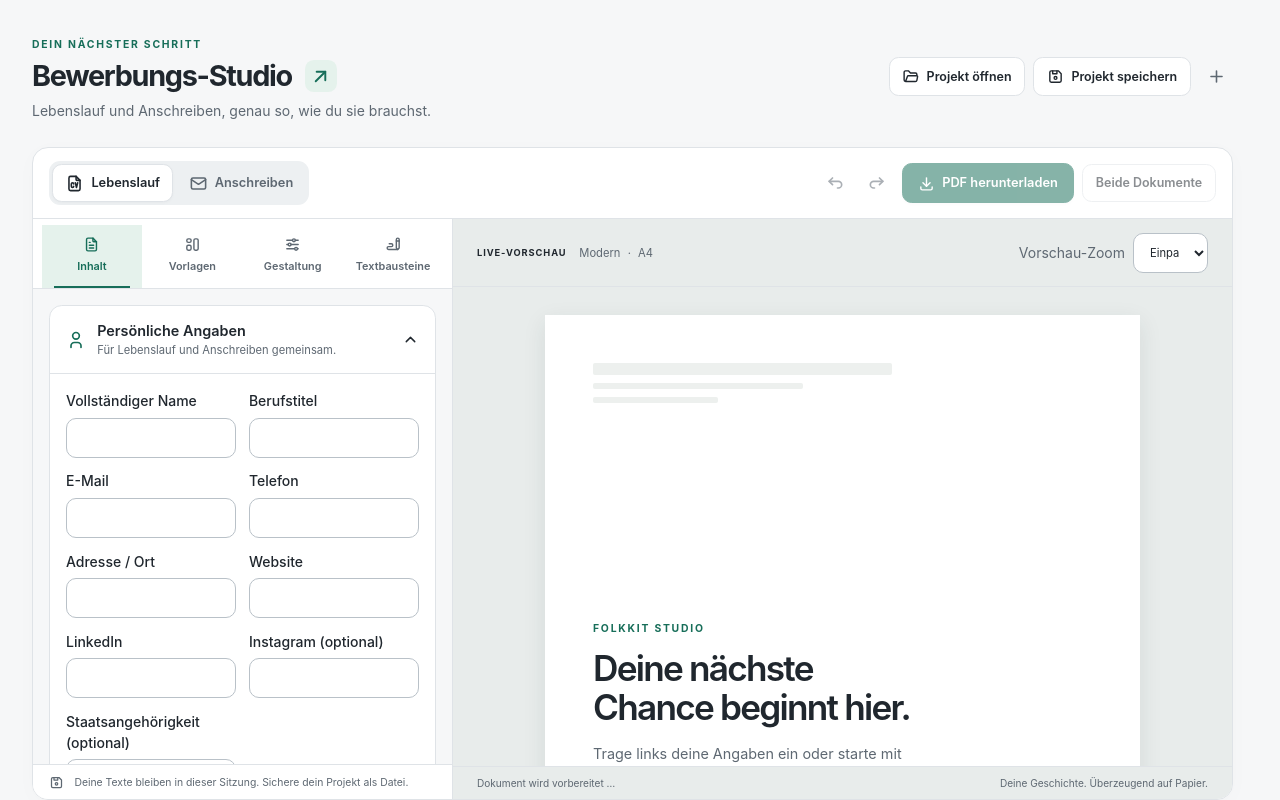
Test: external content appears in preview and template/design changes preserve it
In the field labelled "Vollständiger Name": (151, 438) [66,418,236,458], type "Mira Test"
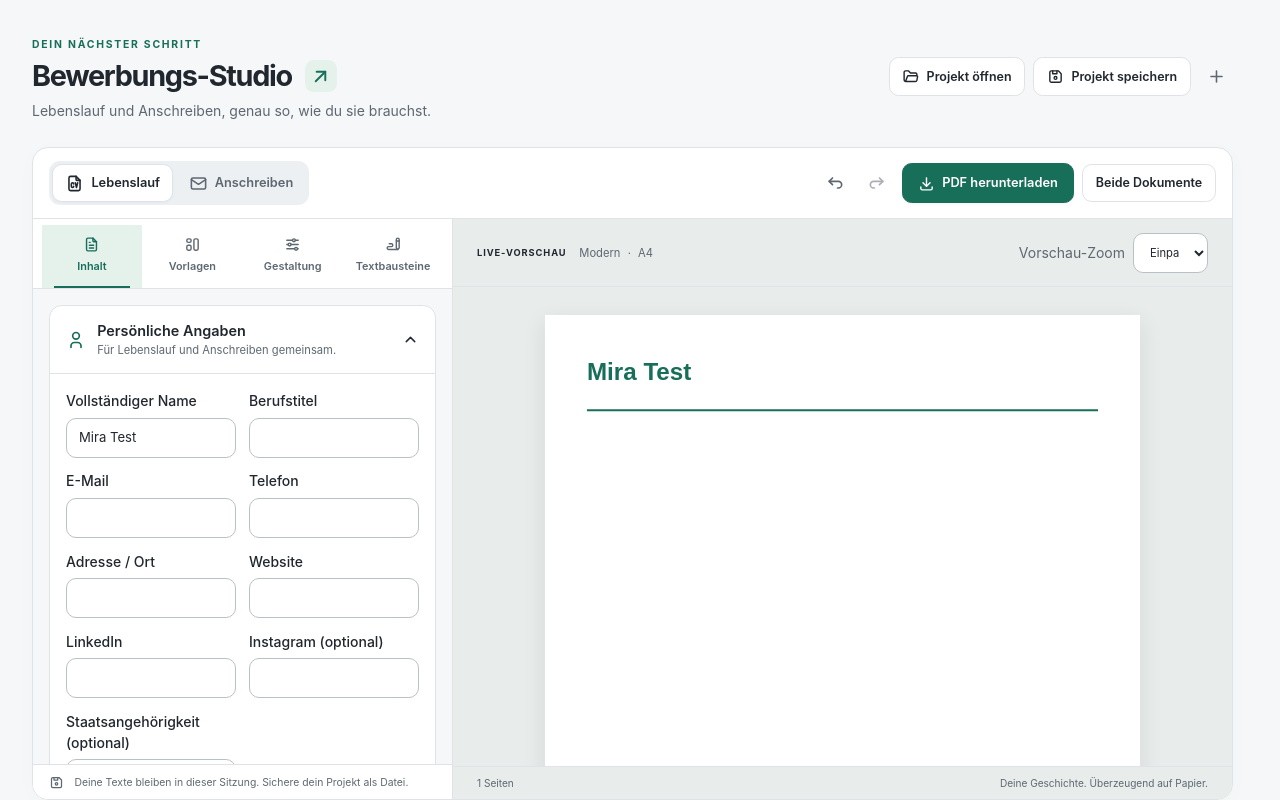
Click the tab "Vorlagen": (192, 257) [142,225,243,288]
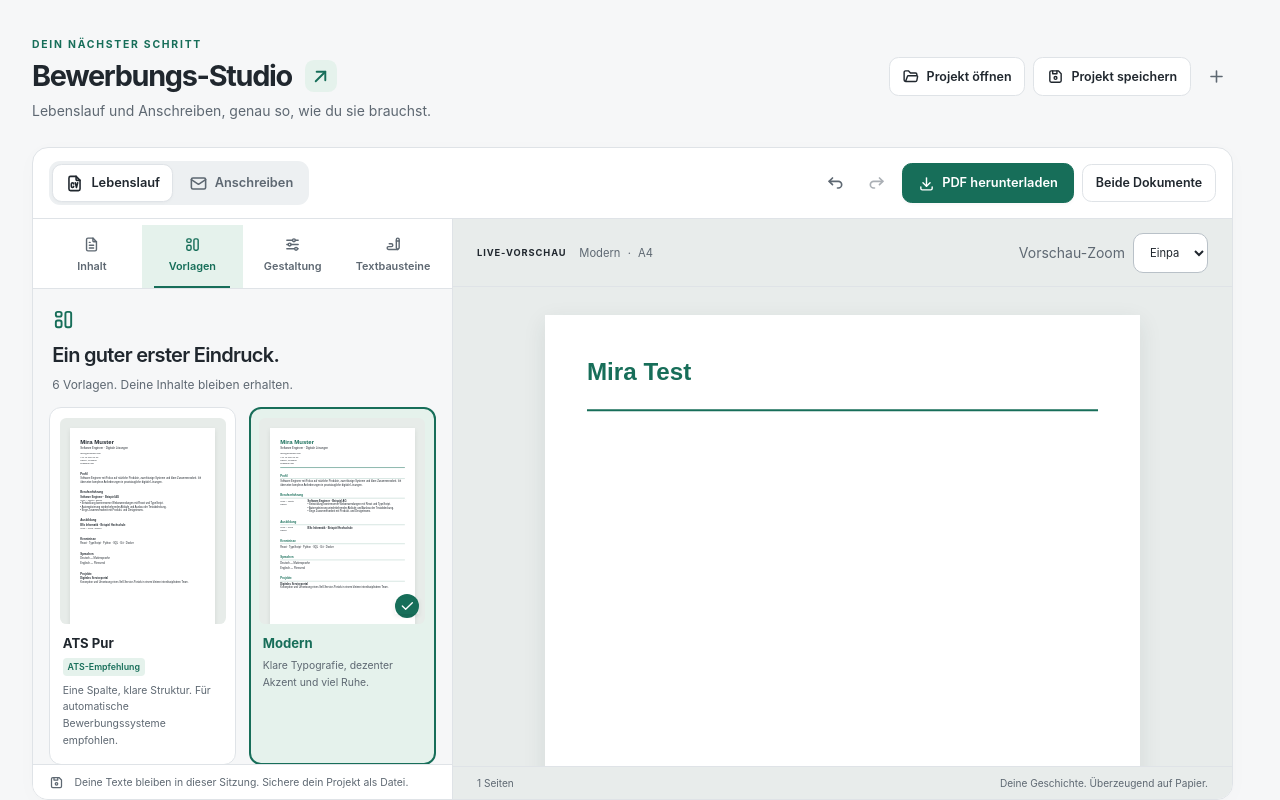
Click the button named "ATS Pur": (143, 586) [49,407,236,765]
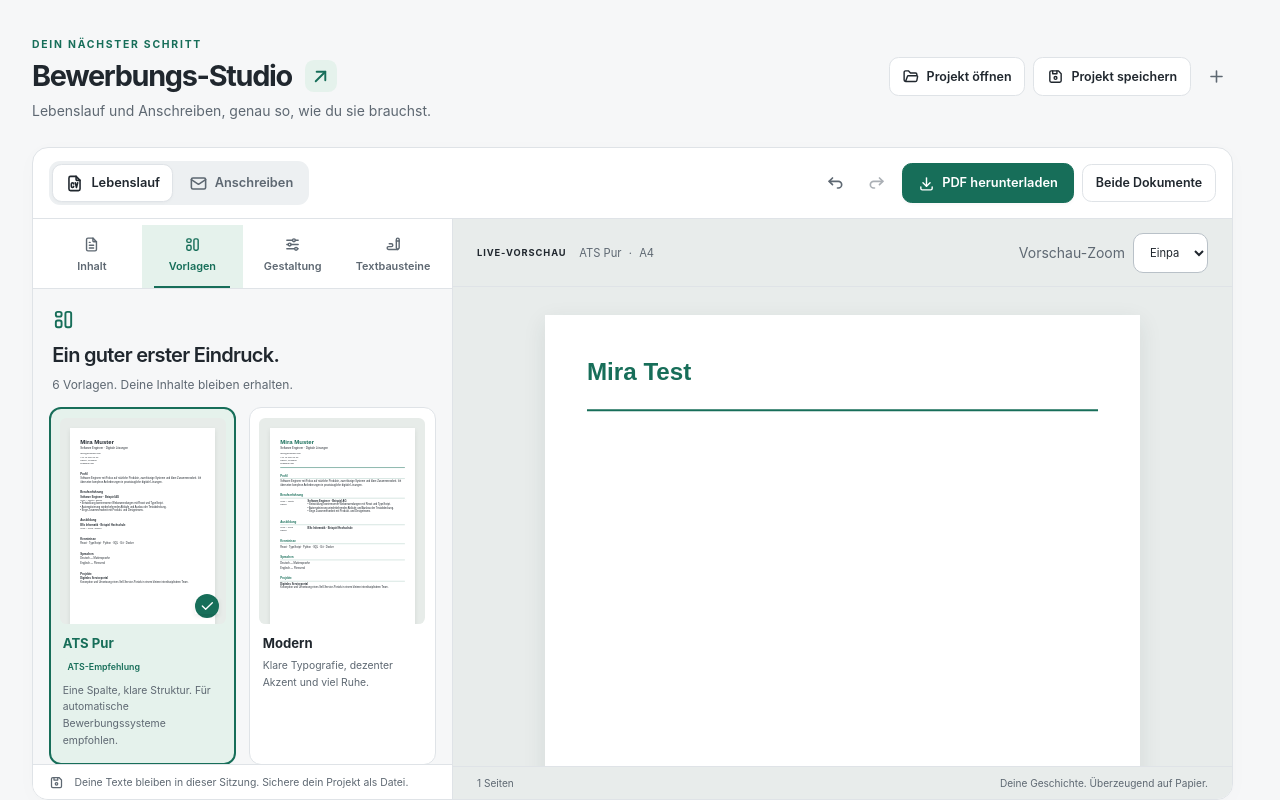
Click the tab "Gestaltung": (293, 257) [242,225,343,288]
(page scrolled)
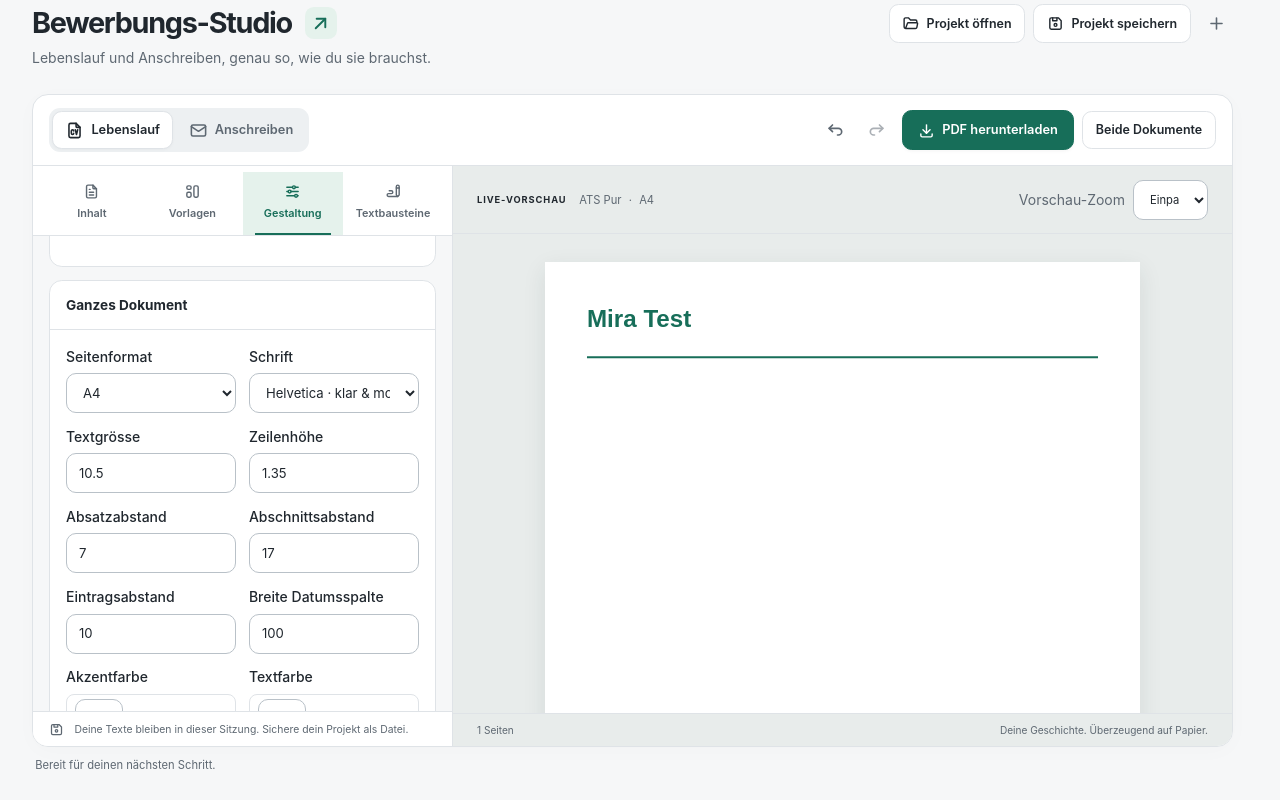
Replace the text in the number field labelled "Textgrösse" with "12": (151, 473) [66,453,236,493]
Click the tab "Inhalt": (92, 204) [42,172,142,235]
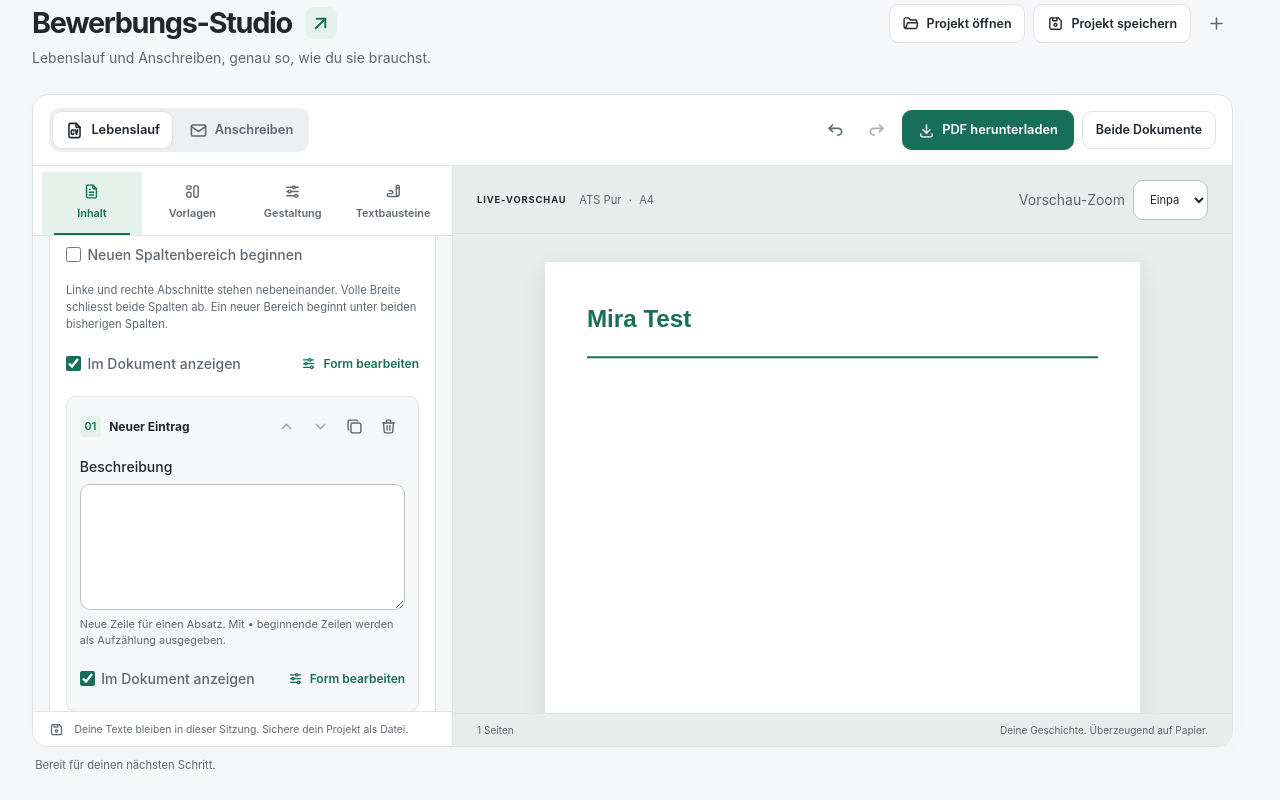
Click the button named "Rückgängig": (835, 130) [818,113,852,147]
(page scrolled)
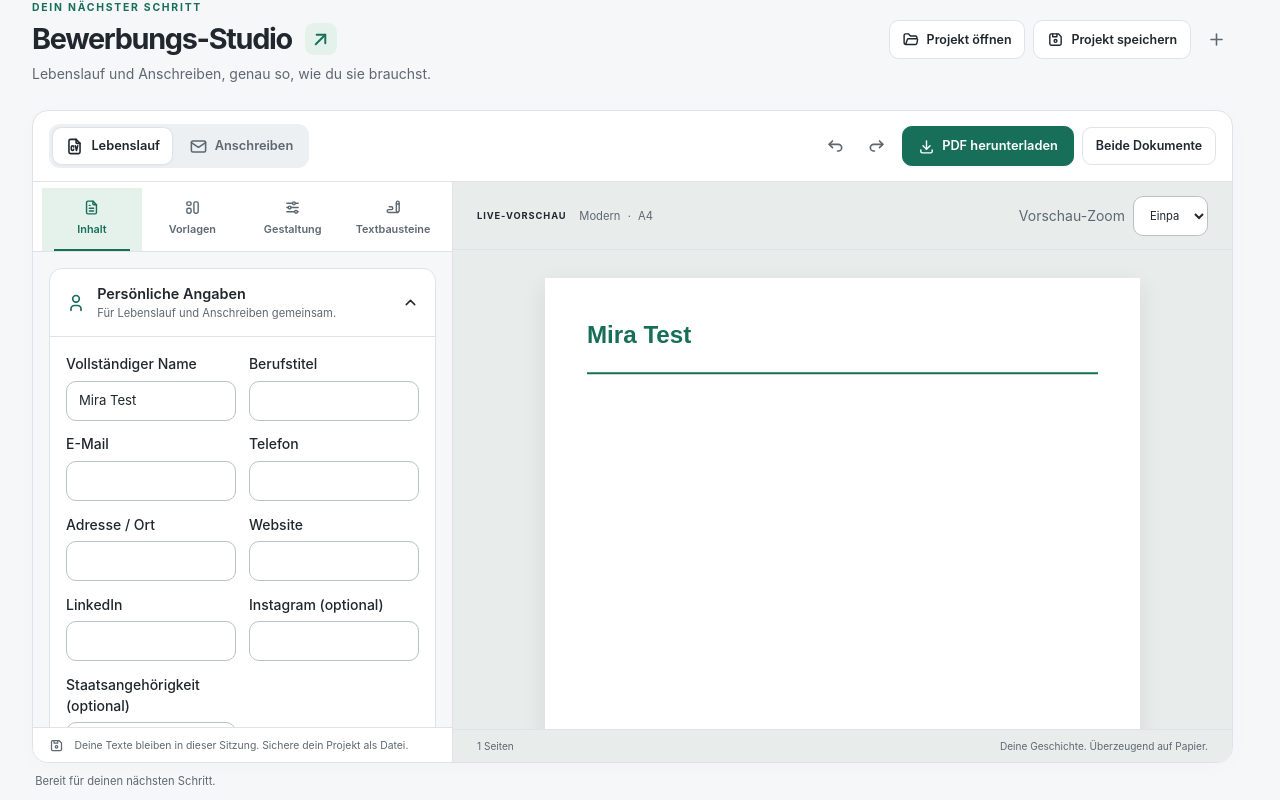
Expected: the field labelled "Vollständiger Name" holds "Mira Test", [66,381,236,421]
